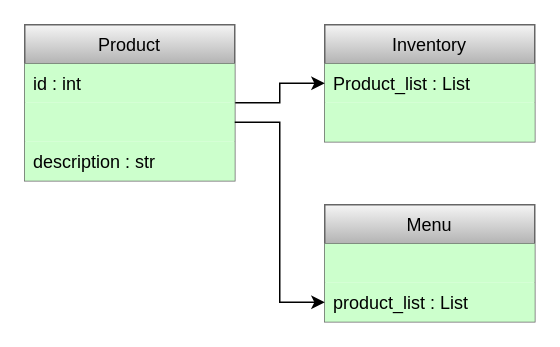
Some shapes in this 560 by 347 pixel diagram are drawn without their labels. The shapes that lost their labels are listed below. From the top down, each one's centre as x and y in pixels, then its label:
At [129,121]: "name : str".
At [429,121]: "count : int".
At [429,262]: "price : int".
